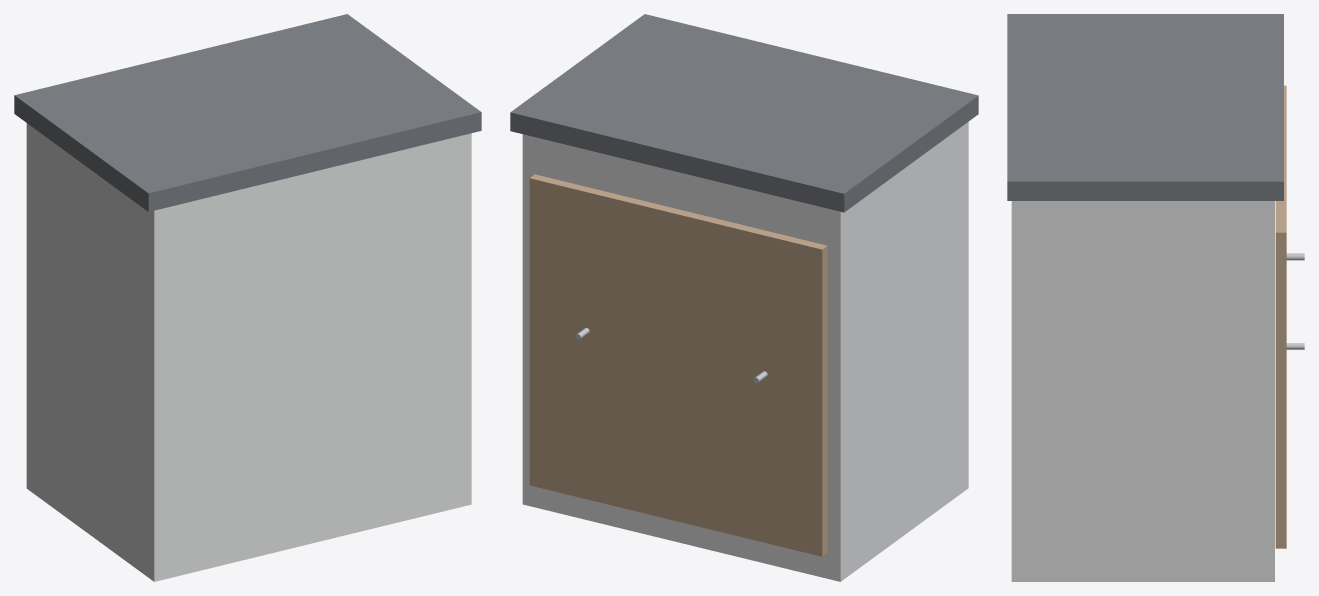
Rendered from kitchen-base-800.glb.
3 views of the same model, side by side, from view 1: azimuth 30°, elevation 25°; view 2: azimuth 150°, elevation 25°; view 3: azimuth 270°, elevation 25° (orthographic). The views are drawn at different scales.
Visible parts, largest first — view 1: cabinet_0, worktop_2; view 2: front_1, cabinet_0, worktop_2; view 3: cabinet_0, worktop_2, front_1.
Boxes of the visible parts, x1,y1,x2,y2 form: cabinet_0: (26, 123, 471, 581); worktop_2: (14, 14, 481, 211); front_1: (529, 174, 827, 556); cabinet_0: (522, 122, 968, 581); worktop_2: (510, 14, 978, 212); cabinet_0: (1011, 201, 1274, 581); worktop_2: (1007, 14, 1283, 200); front_1: (1275, 85, 1286, 548).
Bounding box in the file's own units: 0.8 × 0.9 × 0.6.
